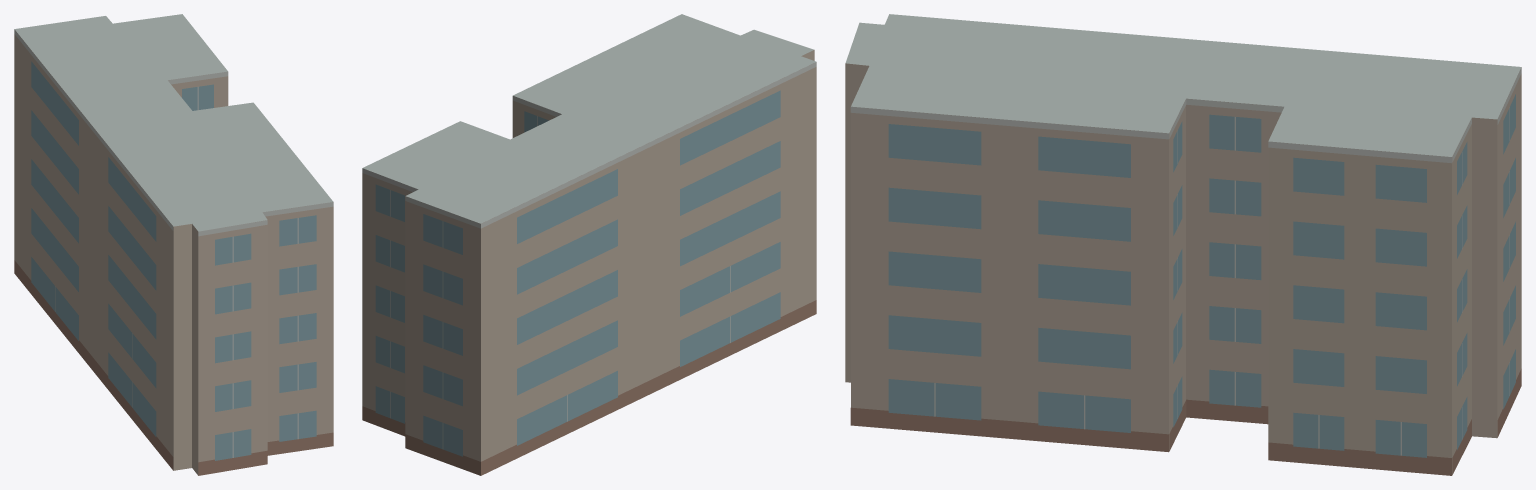
The model's file is survey-upis-32990074.glb.
3 views of the same model, side by side, from view 1: azimuth 30°, elevation 25°; view 2: azimuth 150°, elevation 25°; view 3: azimuth 270°, elevation 25° (orthographic). The views are drawn at different scales.
Visible parts, largest first — view 1: survey-upis-32990074.tmp; view 2: survey-upis-32990074.tmp; view 3: survey-upis-32990074.tmp.
Boxes of the visible parts, x1,y1,x2,y2 form: survey-upis-32990074.tmp: (14, 14, 333, 475); survey-upis-32990074.tmp: (362, 14, 816, 475); survey-upis-32990074.tmp: (845, 14, 1521, 475).
Bounding box in the file's own units: 12.23 × 12.7 × 24.42.
